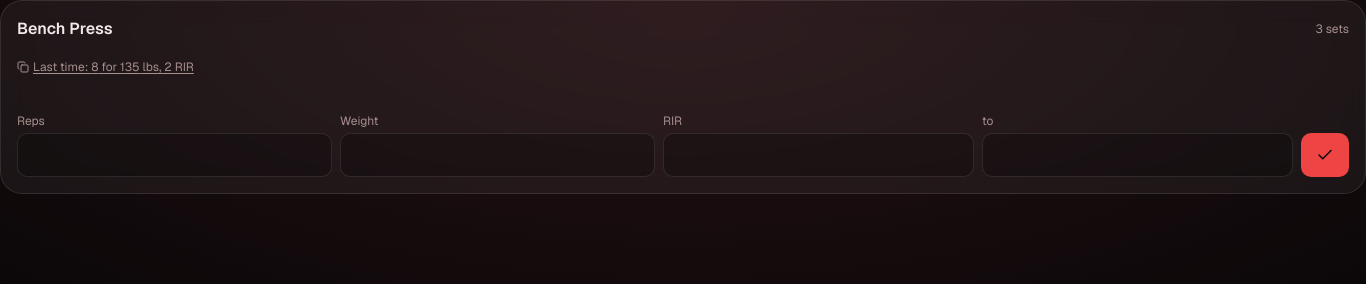
Test case: ExerciseLogCard quick fill › fills both empty fields with the matched set on tap
This screenshot has width=1366, height=284.
Click the button with aria-label "fill set 1" at (105, 67), box [17,45,194,89]
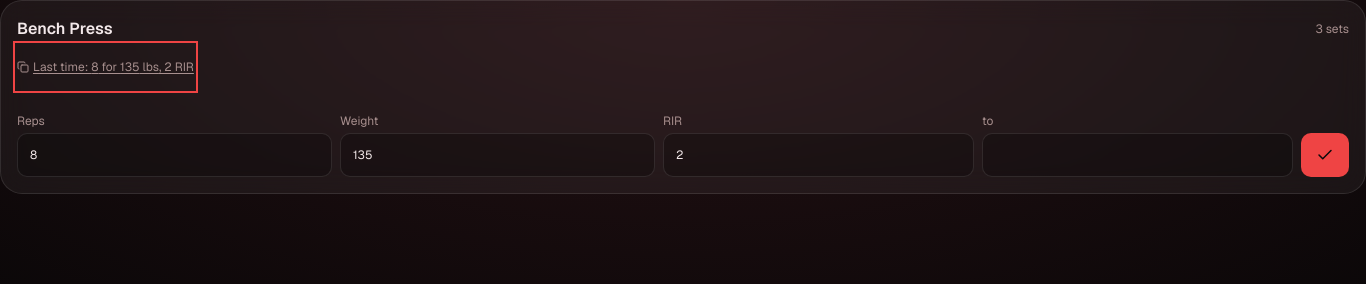
Result: the field labelled "Weight" holds "135" at [340,133,655,177]
Result: the field labelled "Reps" holds "8" at [17,133,332,177]
